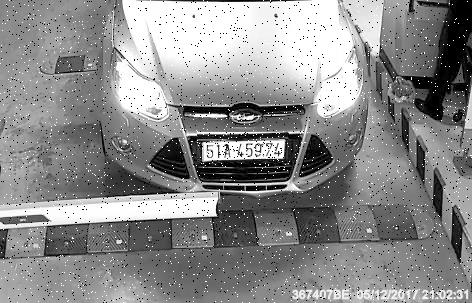License-plate: (199, 134, 291, 167)
